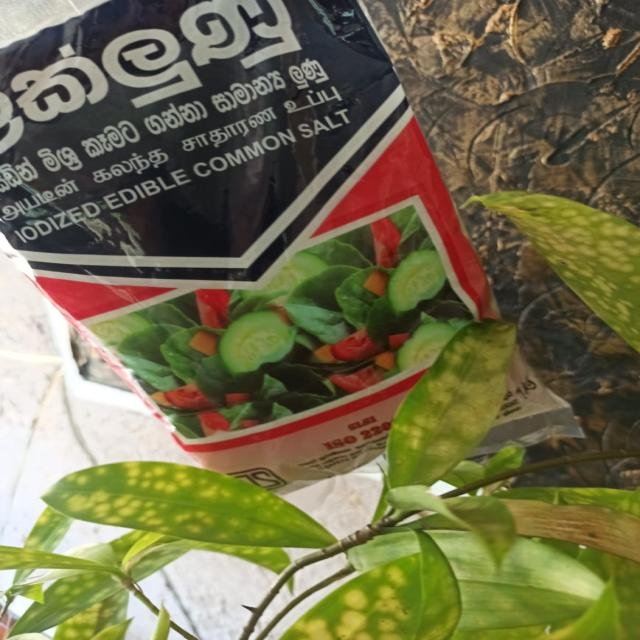Lak Lunu: (0, 0, 579, 532)
